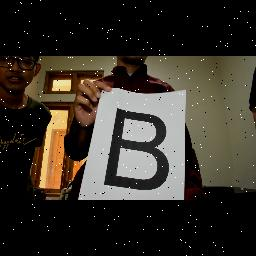b: (102, 106, 170, 192)
